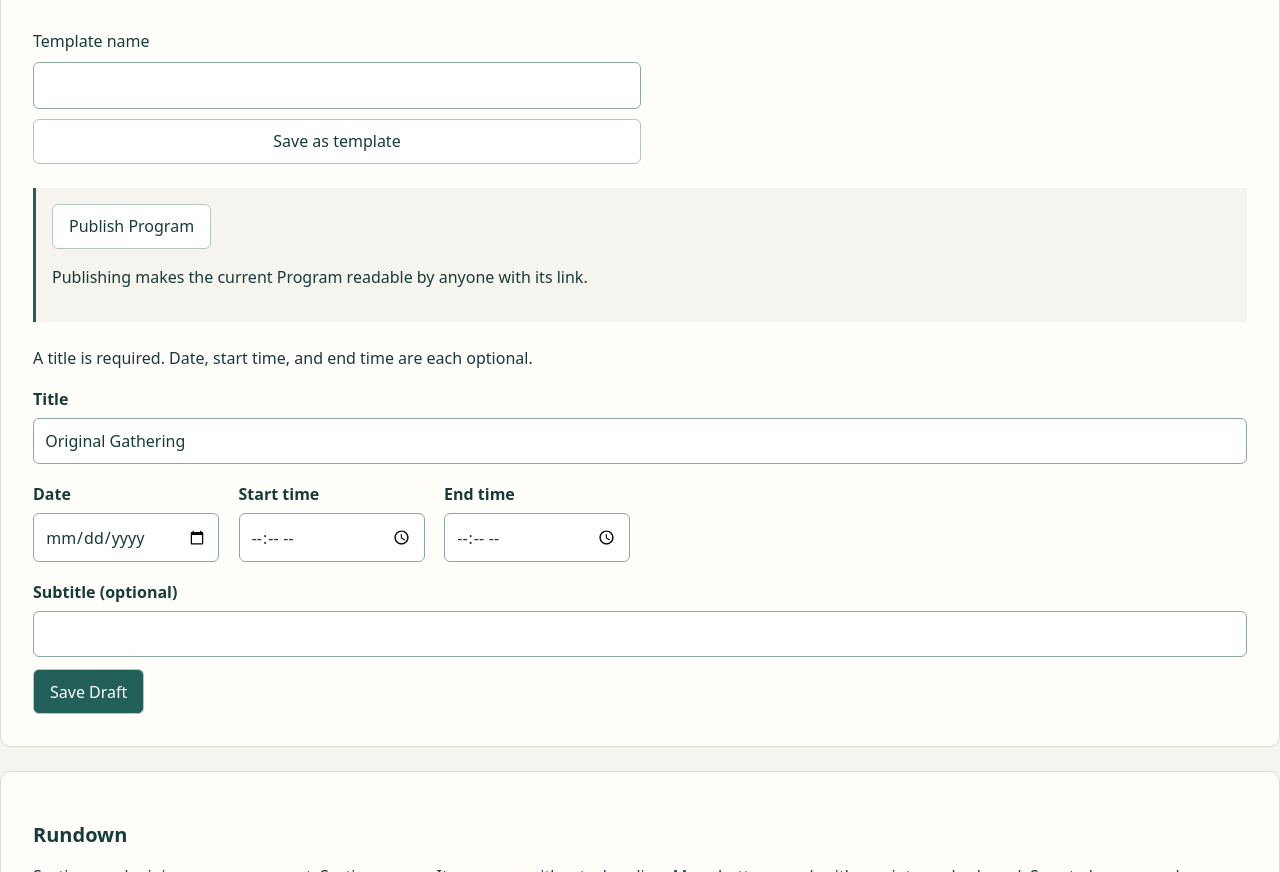
it: keeps local entries on conflict and lets the coordinator explicitly reload the saved Header
(page scrolled)
Step 1. Replace the text in the field labelled "Title" with "My unsaved title" → (640, 441), box x1=33 y1=418 x2=1247 y2=464
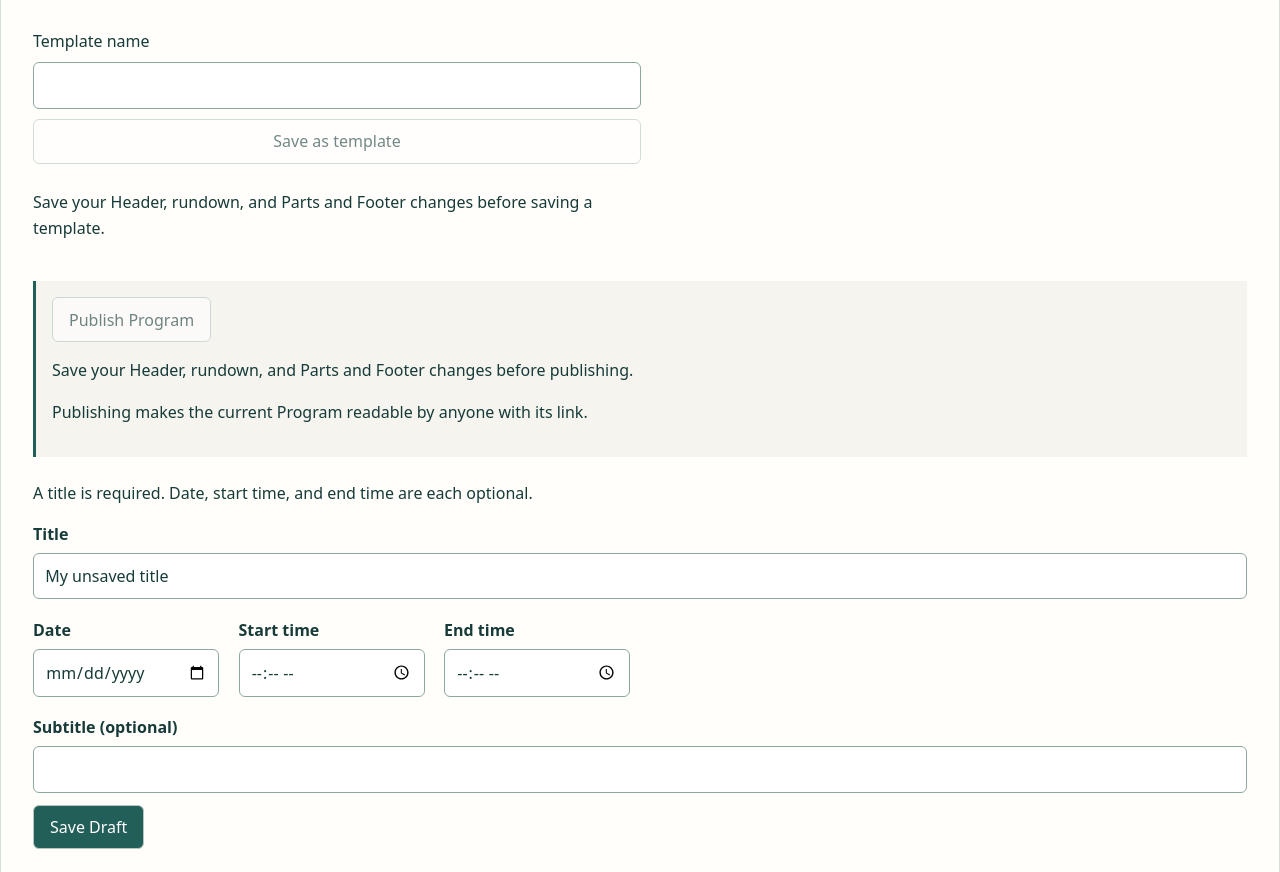
Step 2. Submit the form named "Program Header", box x1=33 y1=481 x2=1247 y2=849
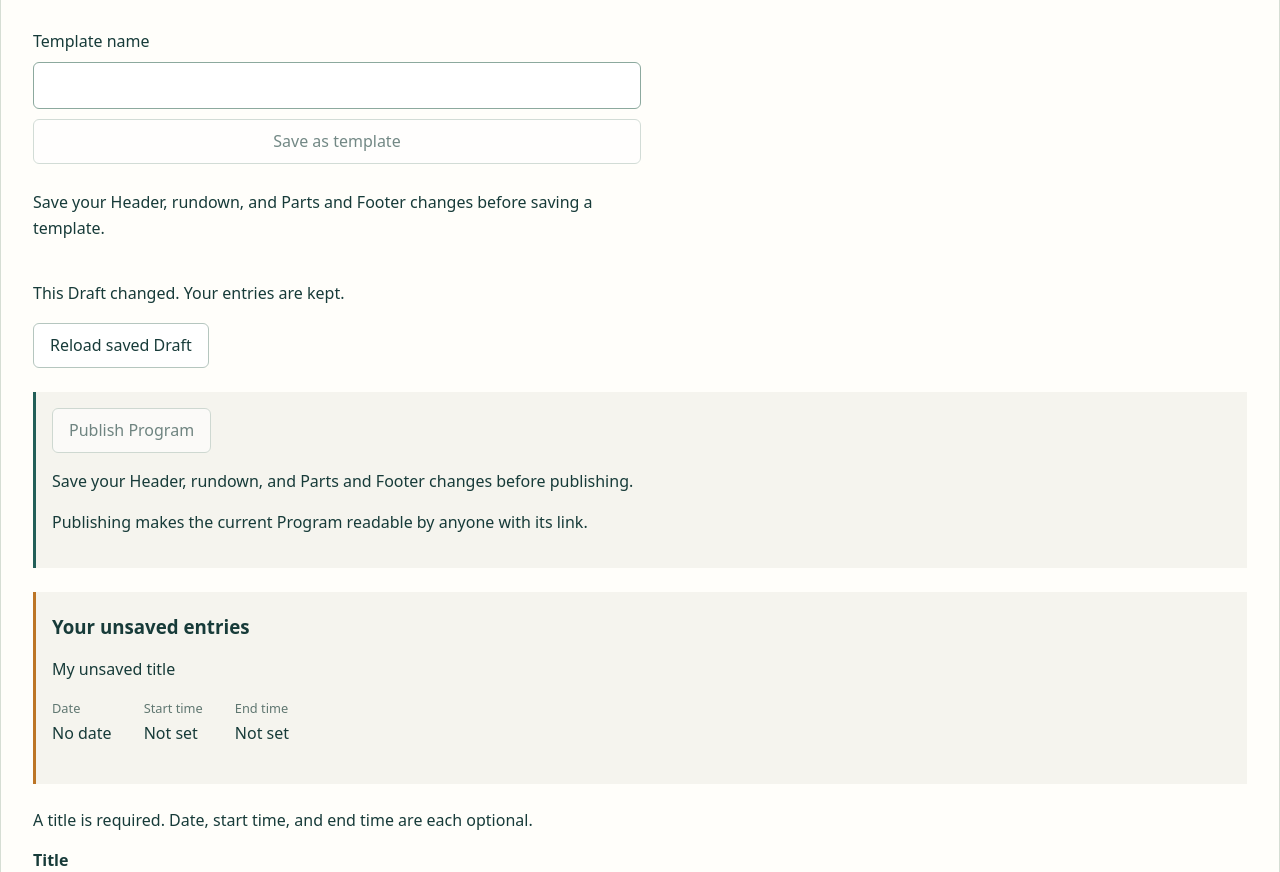
Now the message "This Draft changed. Your entries are kept. Reload saved Draft" is shown, box x1=33 y1=282 x2=344 y2=368
Step 3. Click the button "Reload saved Draft" → (121, 345), box x1=33 y1=323 x2=209 y2=368
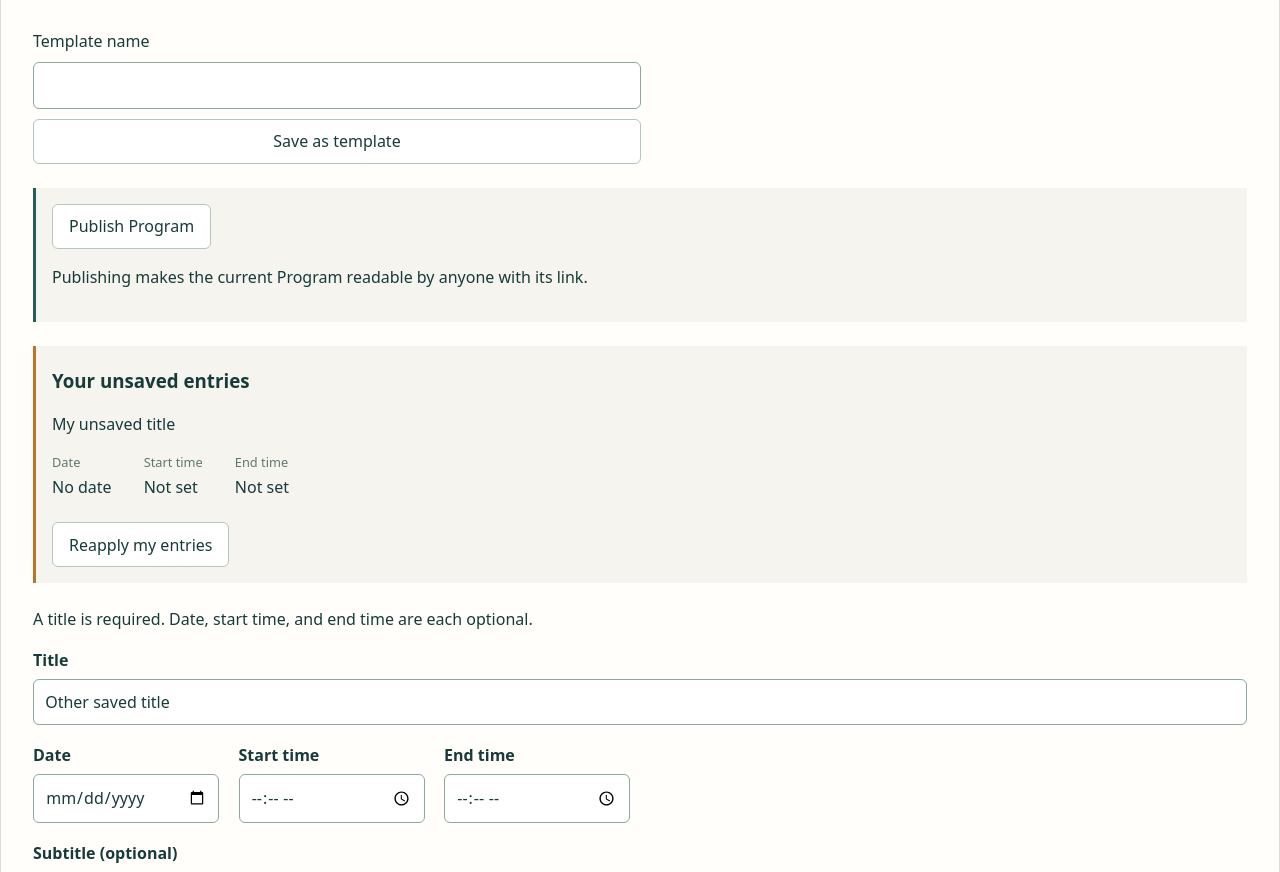
Now the text "My unsaved title" is shown, box x1=52 y1=413 x2=175 y2=435
Now the field showing "Other saved title" is shown, box x1=33 y1=679 x2=1247 y2=725
